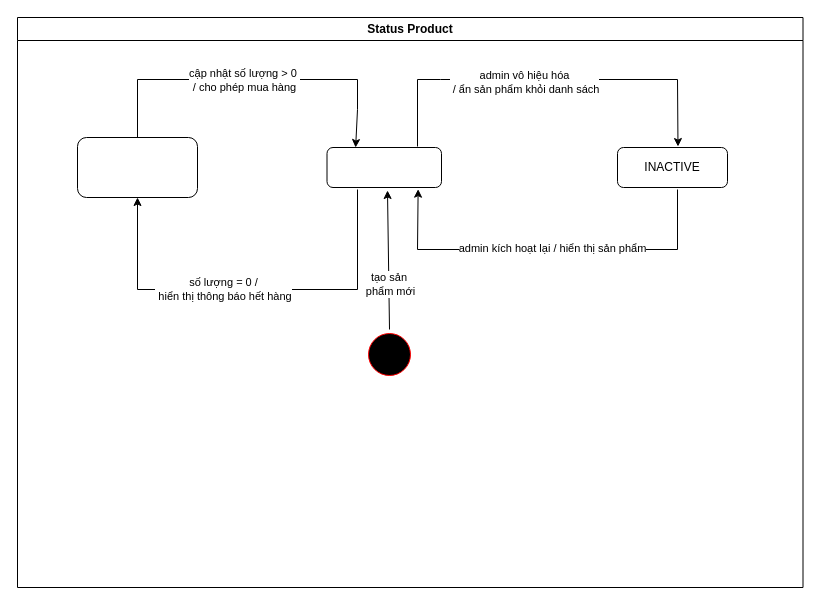
This 821x605 diagram has some shape labels left out. Each missing label, with the centre of its shape:
ACTIVE: (x=384, y=167)
OUT_OF_STOCK: (x=137, y=167)
